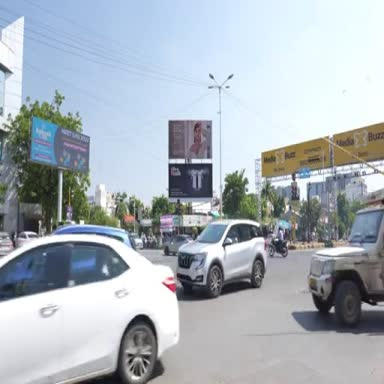Car: (0, 235, 179, 383), (308, 189, 383, 327), (177, 220, 267, 297), (54, 224, 132, 248), (164, 235, 194, 256), (15, 232, 38, 247), (0, 232, 14, 256), (130, 234, 143, 249)
